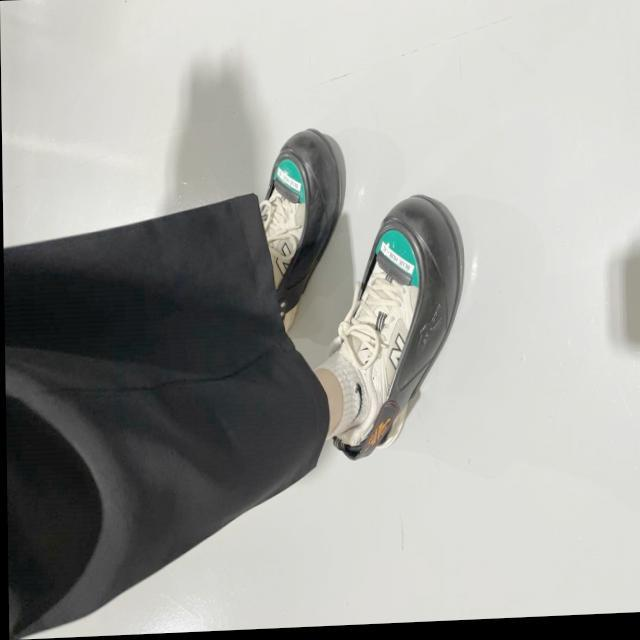shoes: (316, 188, 472, 466), (260, 125, 346, 308)
